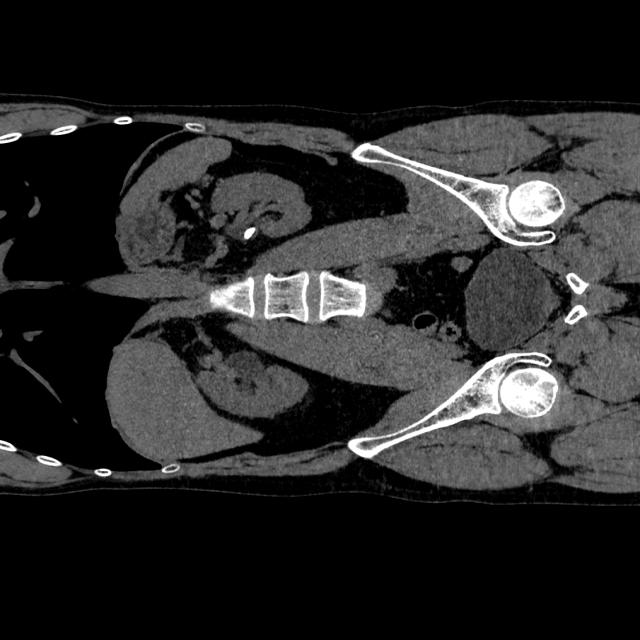kidneystone: (244, 226, 256, 239)
